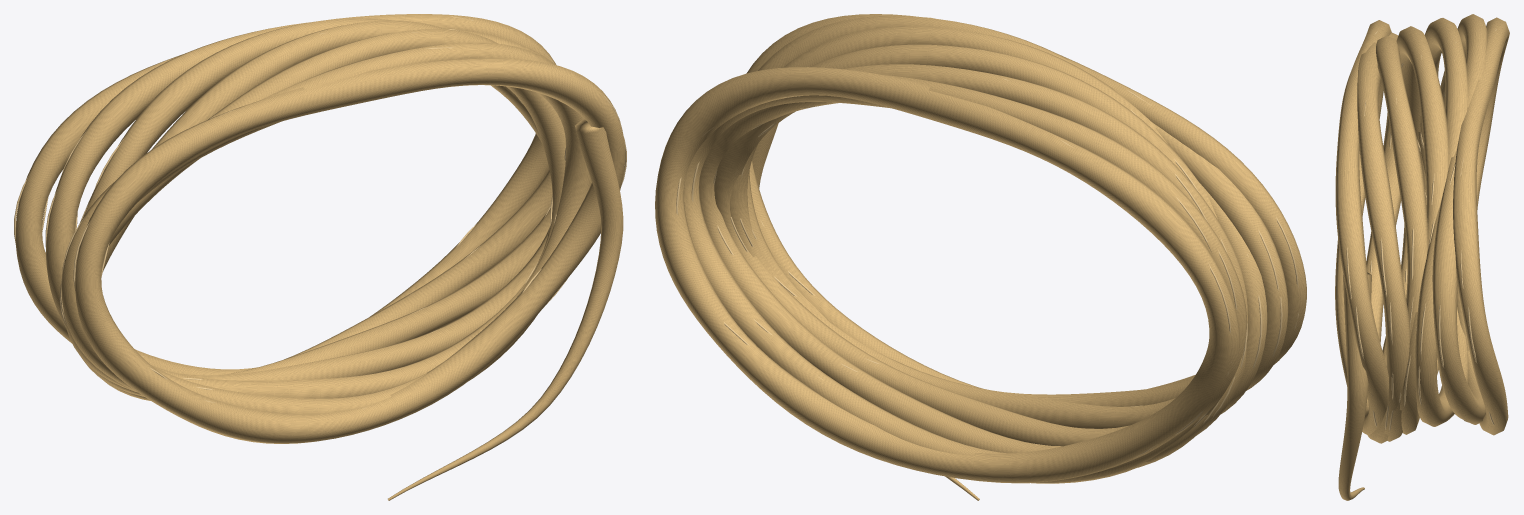
The model's file is monitor_sinew.glb.
3 views of the same model, side by side, from view 1: azimuth 30°, elevation 25°; view 2: azimuth 150°, elevation 25°; view 3: azimuth 270°, elevation 25° (orthographic). The views are drawn at different scales.
Visible parts, largest first — view 1: Golden dry monitor tendon longitudinal fibers, Pale tendon surface fibrils; view 2: Golden dry monitor tendon longitudinal fibers, Pale tendon surface fibrils; view 3: Golden dry monitor tendon longitudinal fibers, Pale tendon surface fibrils.
Part boxes in pixels (box(x1,y1,x2,y2)): Golden dry monitor tendon longitudinal fibers: box(15, 14, 625, 500); Pale tendon surface fibrils: box(14, 16, 626, 408); Golden dry monitor tendon longitudinal fibers: box(655, 14, 1306, 500); Pale tendon surface fibrils: box(676, 16, 1298, 483); Golden dry monitor tendon longitudinal fibers: box(1335, 14, 1509, 500); Pale tendon surface fibrils: box(1346, 29, 1496, 430).
Size of the model in its own units: 0.1806 by 0.1424 by 0.0539.
2 materials, 1 textured.
